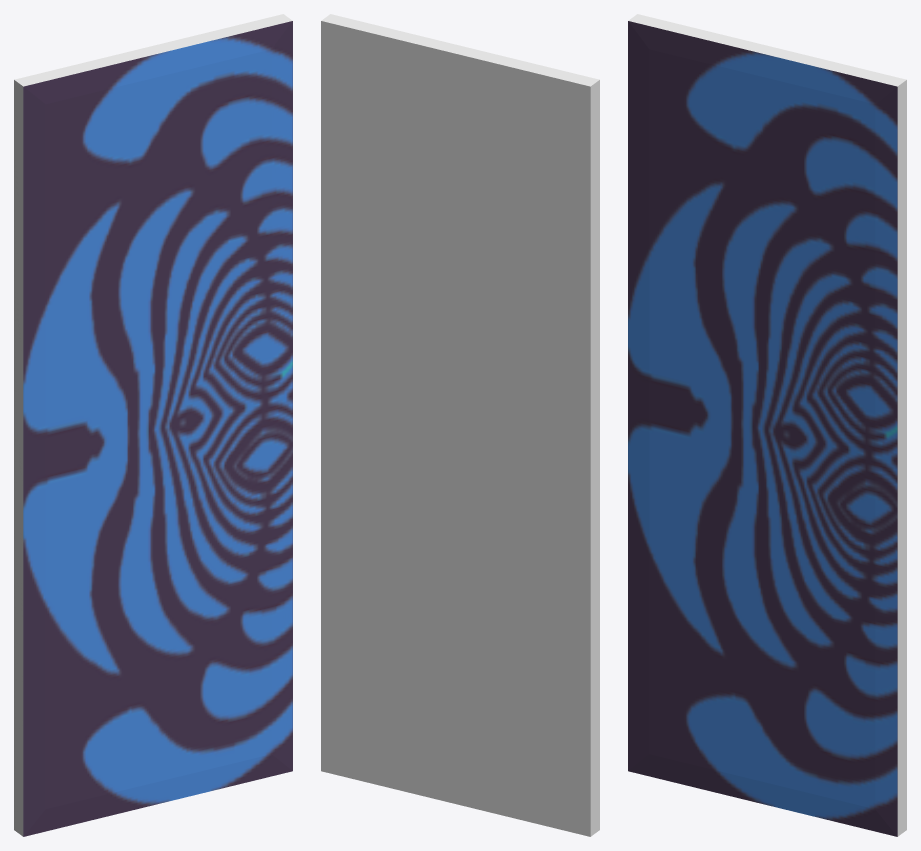
Rendered from Picture_Rec_01_C.FBX.
3 renders of one model, left to right at view 1: azimuth 30°, elevation 25°; view 2: azimuth 150°, elevation 25°; view 3: azimuth 330°, elevation 25°, orthographic.
Visible parts, largest first — view 1: Rectangle_Picture; view 2: Rectangle_Picture; view 3: Rectangle_Picture.
Boxes of the visible parts, x1,y1,x2,y2 form: Rectangle_Picture: [14, 14, 292, 836]; Rectangle_Picture: [321, 14, 599, 836]; Rectangle_Picture: [628, 14, 906, 836].
Bounding box in the file's own units: 66.19 × 176 × 4.21.
